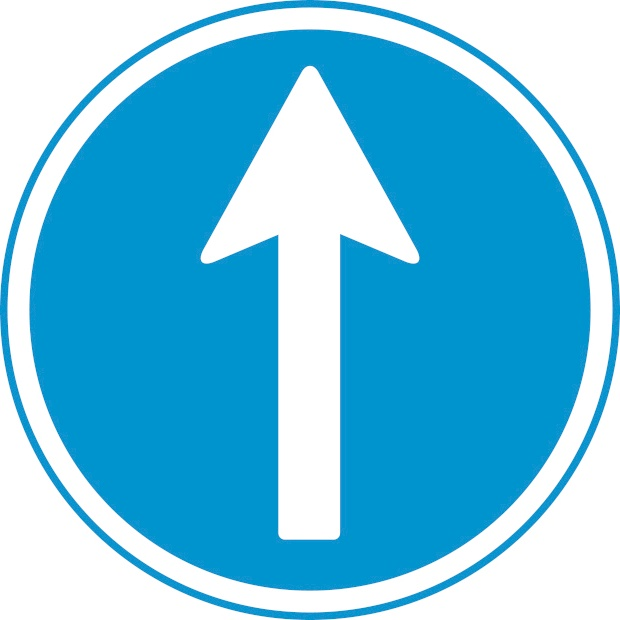Direction_sign: (1, 8, 618, 616)
